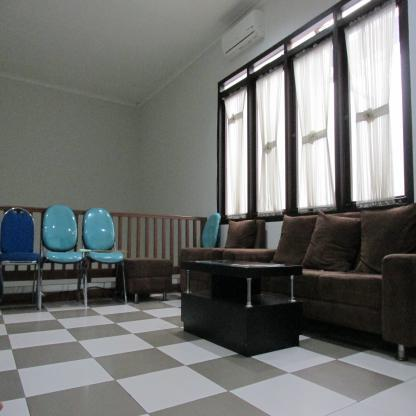kursi: (84, 207, 127, 304), (41, 209, 84, 306), (1, 210, 44, 307)
meja: (176, 256, 306, 358)
sova: (272, 210, 416, 360)
